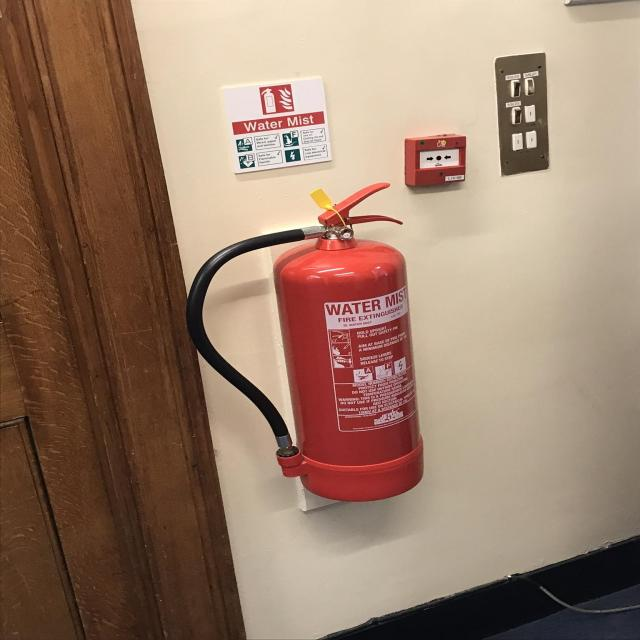fire_extinguisher: (183, 180, 431, 504)
